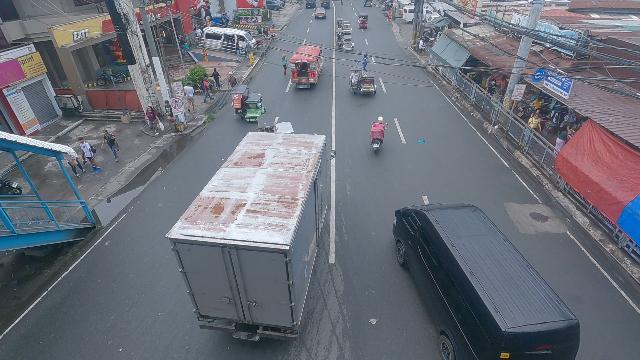car: (314, 7, 326, 19), (320, 0, 330, 10), (306, 0, 316, 8)
jeepney: (289, 45, 324, 89)
motorcycle: (369, 115, 388, 156)
truck: (164, 131, 333, 340)
van: (391, 202, 582, 357), (200, 26, 256, 54)
